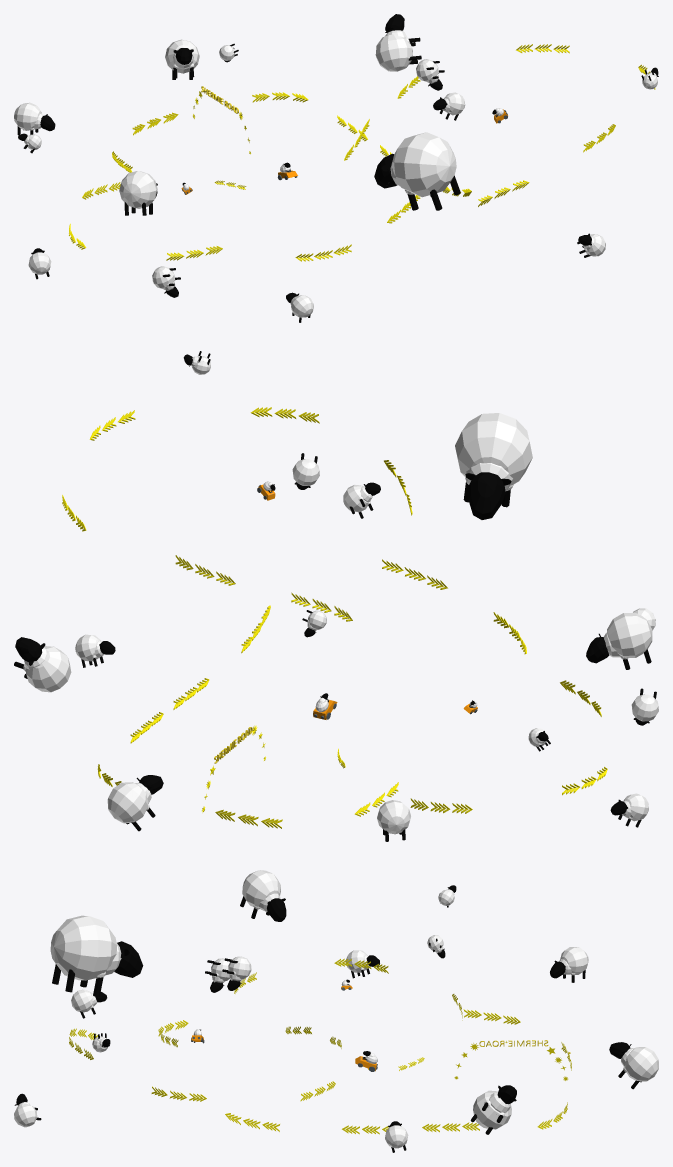
The model's file is ShermieRoadB.glb.
3 views of the same model, one above another, from view 1: azimuth 30°, elevation 25°; view 2: azimuth 150°, elevation 25°; view 3: azimuth 270°, elevation 25° (orthographic). The views are drawn at different scales.
Parts seen in each view (by area): view 1: R, arrowSide2, RT, arrowSide1, H, EI, S, E.004, E.005, E, E.002, E.006 (+1 smaller); view 2: R, arrowSide2, arrowSide1, H, RT, EI, S, E, E.006, E.003, E.004, E.005; view 3: R, arrowSide1, H, arrowSide2, RT, EI, S, E.005, E.002, E.006, E.003, E.004 (+1 smaller).
Part boxes in pixels (bbox=[...]): R: bbox=[374, 132, 460, 210]; arrowSide2: bbox=[69, 44, 655, 260]; RT: bbox=[375, 14, 421, 71]; arrowSide1: bbox=[112, 92, 471, 261]; H: bbox=[119, 171, 157, 215]; EI: bbox=[165, 39, 199, 79]; S: bbox=[14, 102, 55, 135]; E.004: bbox=[152, 266, 180, 297]; E.005: bbox=[416, 59, 444, 90]; E: bbox=[433, 92, 465, 120]; E.002: bbox=[286, 292, 313, 322]; E.006: bbox=[577, 233, 605, 257]; R: bbox=[455, 413, 532, 519]; arrowSide2: bbox=[62, 407, 607, 813]; arrowSide1: bbox=[97, 559, 526, 828]; H: bbox=[586, 613, 652, 669]; RT: bbox=[14, 637, 71, 692]; EI: bbox=[107, 775, 163, 831]; S: bbox=[377, 800, 410, 841]; E: bbox=[75, 634, 115, 667]; E.006: bbox=[343, 482, 380, 518]; E.003: bbox=[610, 793, 648, 827]; E.004: bbox=[631, 688, 658, 725]; E.005: bbox=[292, 453, 319, 489]; R: bbox=[50, 915, 143, 996]; arrowSide1: bbox=[158, 1009, 571, 1134]; H: bbox=[240, 870, 286, 921]; arrowSide2: bbox=[69, 958, 462, 1101]; RT: bbox=[470, 1085, 516, 1134]; EI: bbox=[609, 1042, 658, 1089]; S: bbox=[550, 947, 588, 982]; E.005: bbox=[222, 956, 251, 990]; E.002: bbox=[71, 989, 107, 1018]; E.006: bbox=[14, 1093, 41, 1127]; E.003: bbox=[346, 950, 379, 978]; E.004: bbox=[205, 958, 229, 992].
Size of the model in its own units: 167 by 54.03 by 170.
42 materials, 31 textured.
